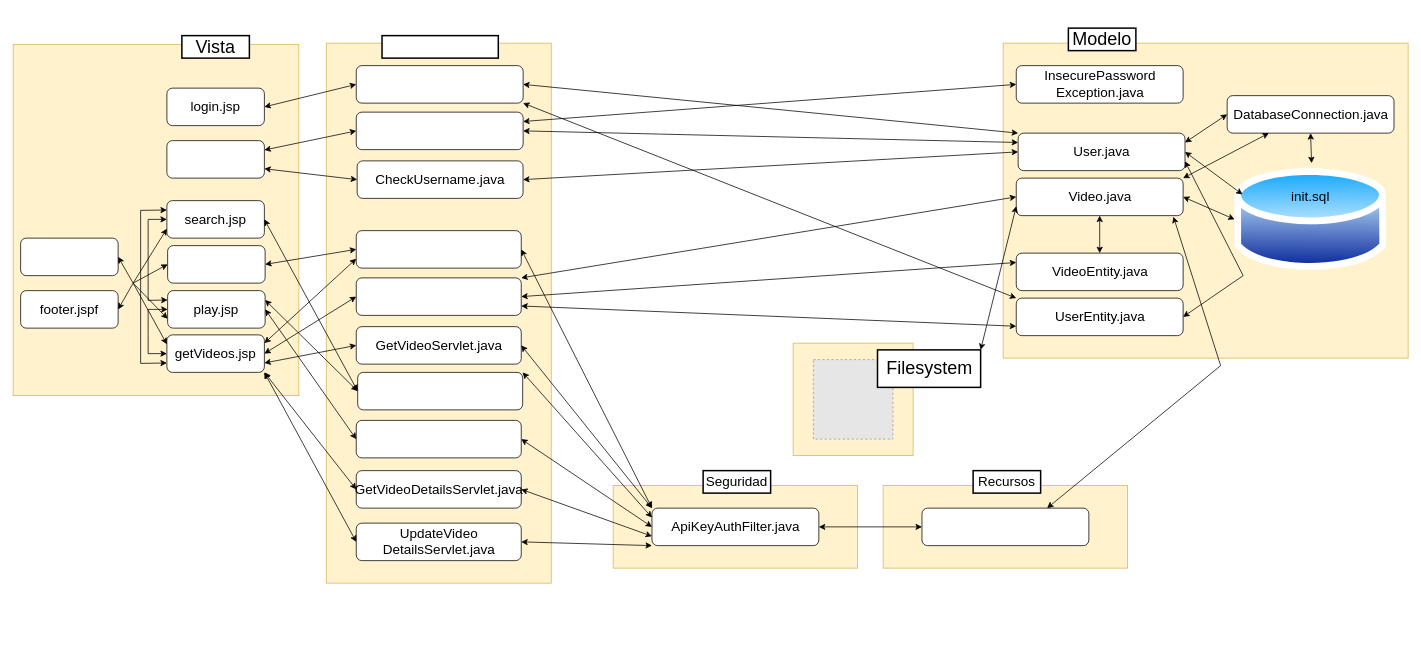
The diagram is 1421 pixels wide and 648 high, and some of its shapes have lost their labels. Grey dashed boxes stand in for pictures. The centre of each missing label's shape, as x and y in pixels:
"addVideo.jsp" belongs at point (216, 264).
"AddVideoRestServlet.java" belongs at point (438, 249).
"Controlador" belongs at point (440, 46).
"DeleteVideoServlet.java" belongs at point (438, 296).
"header.jspf" belongs at point (69, 256).
"IncrementVideoViews RestServlet.java" belongs at point (440, 391).
"LoginServlet.java" belongs at point (439, 84).
"PlayVideo Servlet.java" belongs at point (438, 439).
"register.jsp" belongs at point (215, 159).
"RegisterServlet.java" belongs at point (439, 130).
"VideoRestService.java" belongs at point (1005, 526).
